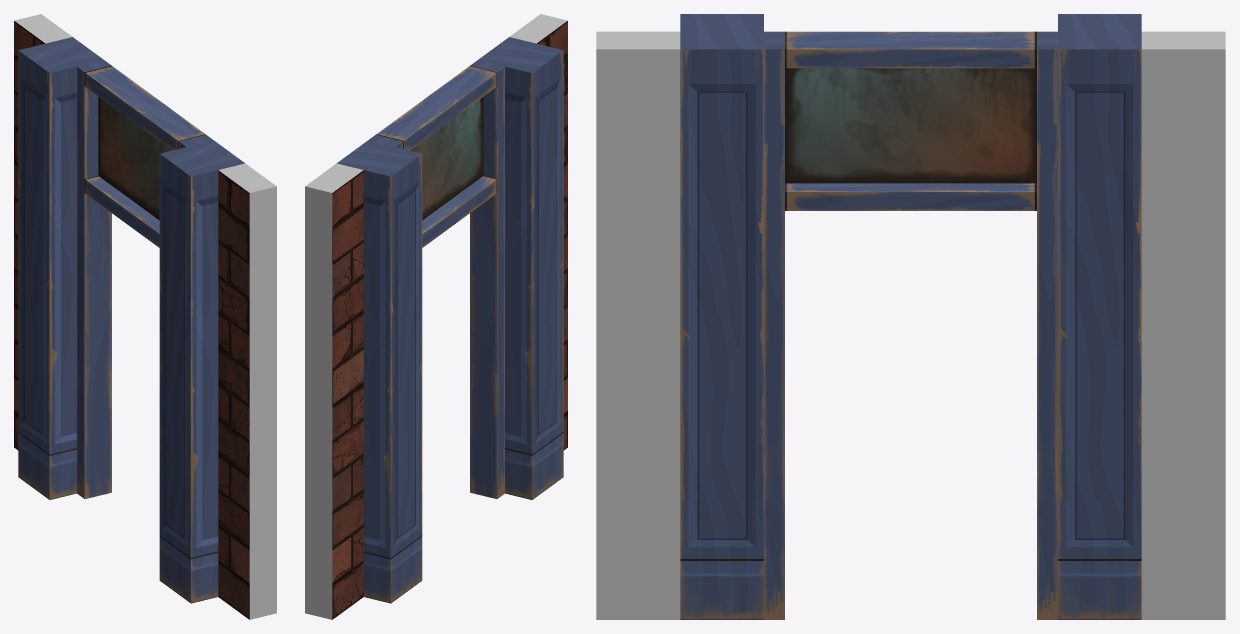
File: storeFront02_entrance.FBX
3 renders of one model, left to right at view 1: azimuth 30°, elevation 25°; view 2: azimuth 150°, elevation 25°; view 3: azimuth 270°, elevation 25°, orthographic. The views are drawn at different scales.
Visible parts, largest first — view 1: storeFront02_entrance, storeFront02_entrance_glass; view 2: storeFront02_entrance, storeFront02_entrance_glass; view 3: storeFront02_entrance, storeFront02_entrance_glass.
Part boxes in pixels (<box>): storeFront02_entrance: <box>14,14,276,619</box>; storeFront02_entrance_glass: <box>98,97,171,220</box>; storeFront02_entrance: <box>305,14,567,619</box>; storeFront02_entrance_glass: <box>410,97,483,220</box>; storeFront02_entrance: <box>596,14,1225,619</box>; storeFront02_entrance_glass: <box>785,68,1036,183</box>.
Size of the model in its own units: 40 by 300 by 300.
